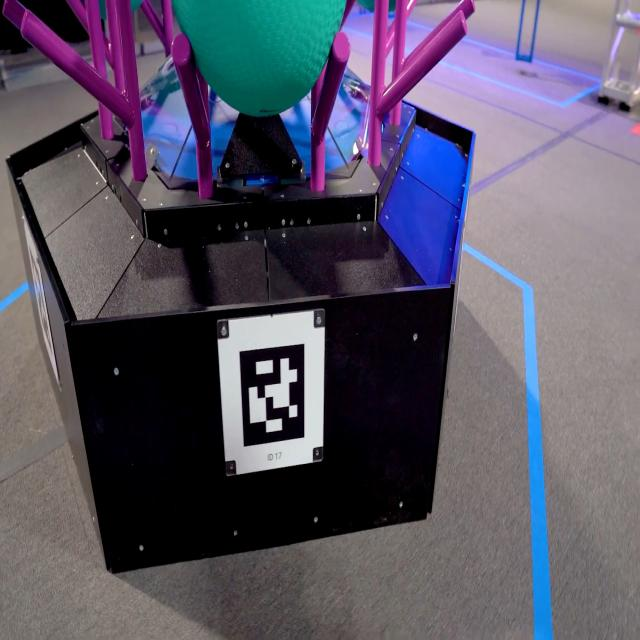Algae: (170, 0, 348, 119)
